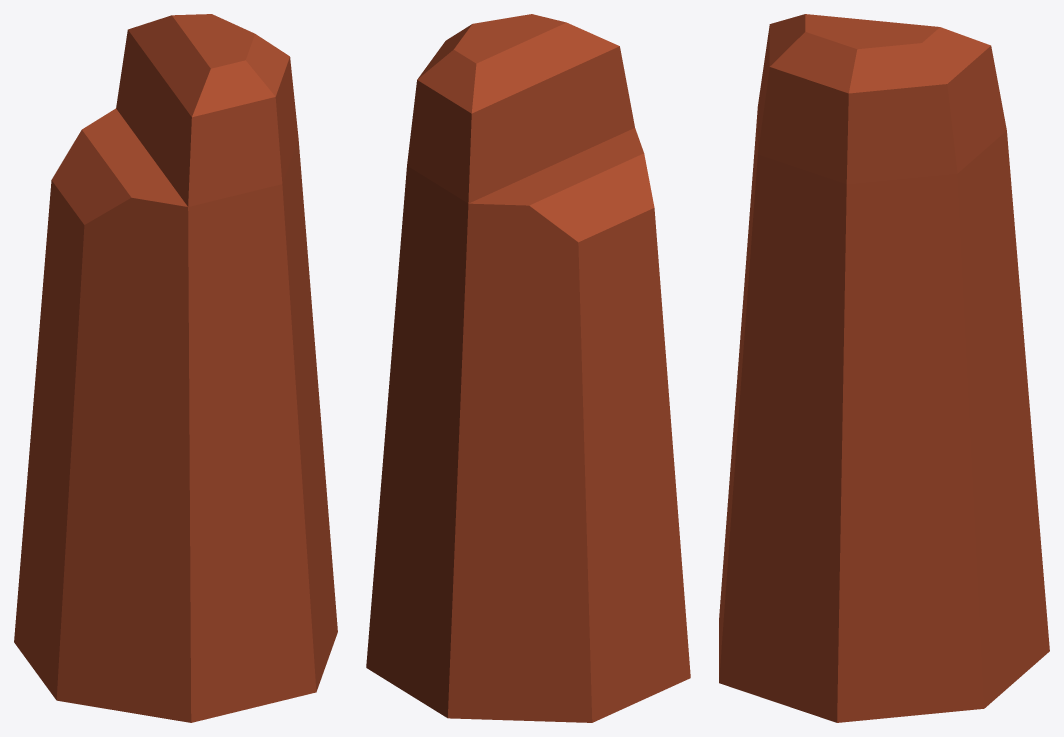
The model's file is DesertRockC.glb.
The picture shows the model from 3 angles, left to right: view 1: azimuth 30°, elevation 25°; view 2: azimuth 150°, elevation 25°; view 3: azimuth 270°, elevation 25°; orthographic projection. The views are drawn at different scales.
Parts seen in each view (by area): view 1: Cylinder.001; view 2: Cylinder.001; view 3: Cylinder.001.
Boxes of the visible parts, x1,y1,x2,y2 form: Cylinder.001: [14, 14, 337, 722]; Cylinder.001: [366, 14, 690, 722]; Cylinder.001: [719, 14, 1049, 722].
Size of the model in its own units: 2.59 by 5.36 by 2.53.
